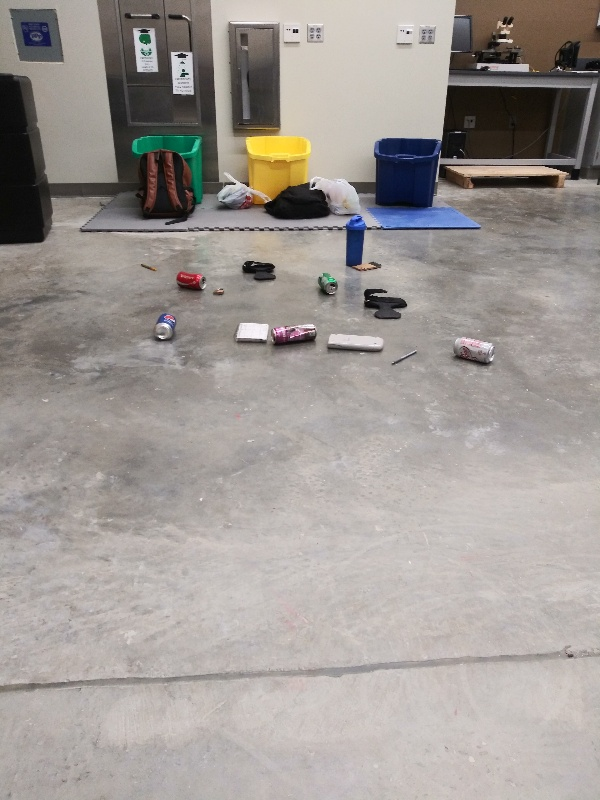can: (270, 323, 319, 352), (448, 333, 495, 361), (148, 307, 182, 344), (172, 266, 210, 297), (314, 268, 340, 298)
